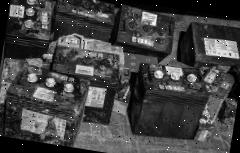electronic: (125, 56, 212, 152)
